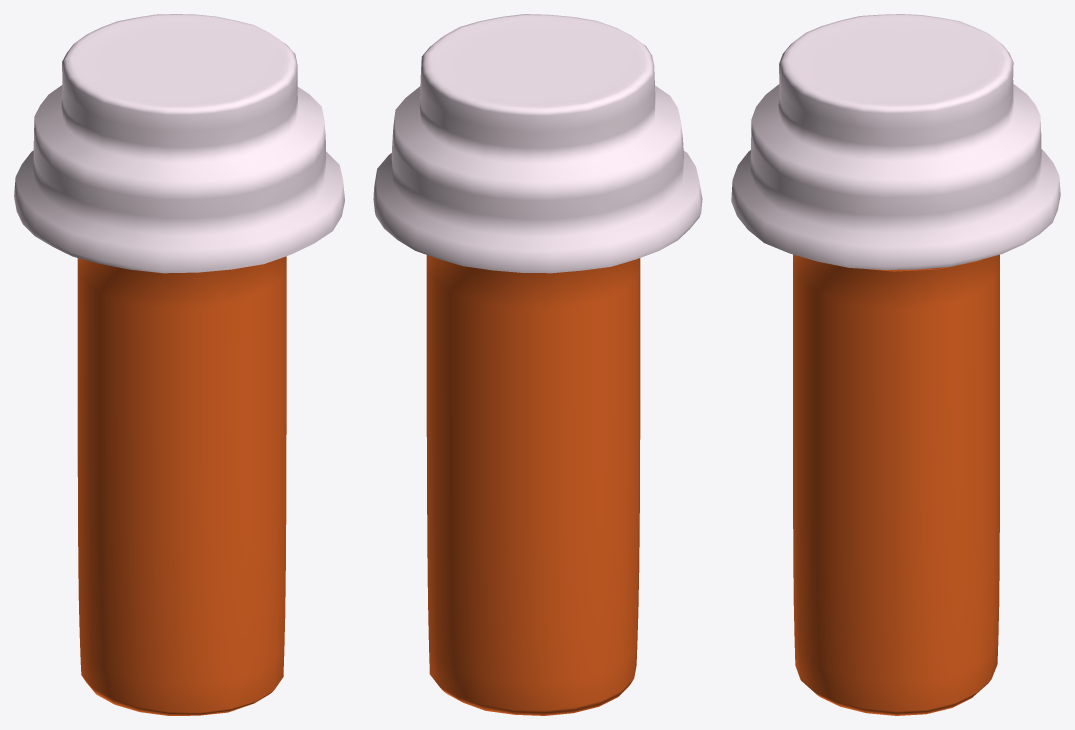
File: İlaç.fbx
3 renders of one model, left to right at view 1: azimuth 30°, elevation 25°; view 2: azimuth 150°, elevation 25°; view 3: azimuth 270°, elevation 25°, orthographic.
Parts seen in each view (by area): view 1: Capsule_65_01; view 2: Capsule_65_01; view 3: Capsule_65_01.
Part boxes in pixels (box(x1,y1,x2,y2)): Capsule_65_01: box(14, 14, 344, 715); Capsule_65_01: box(373, 14, 702, 715); Capsule_65_01: box(731, 14, 1060, 715).
Bounding box in the file's own units: 15.86 × 32.86 × 15.96.
